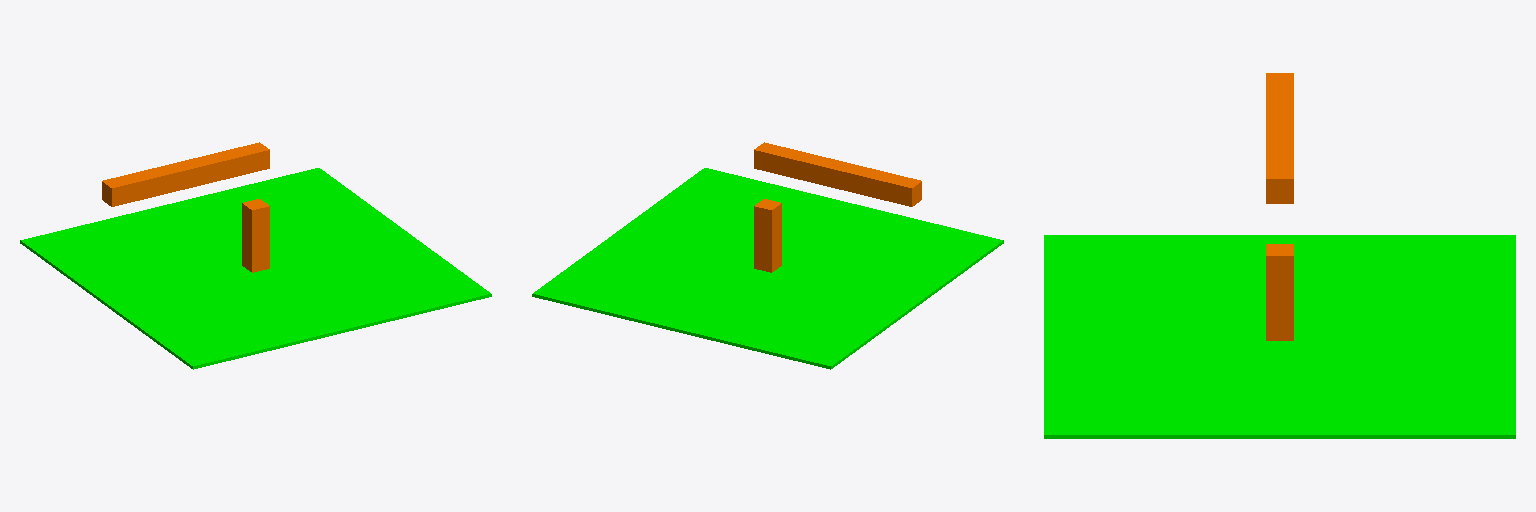
robot.urdf — scene_mingruiyu_0:
<?xml version="1.0" ?>
<!-- =================================================================================== -->
<!-- |    This document was autogenerated by xacro from scene_mingruiyu_3.xacro        | -->
<!-- |    EDITING THIS FILE BY HAND IS NOT RECOMMENDED                                 | -->
<!-- =================================================================================== -->
<robot name="scene_mingruiyu_0">
  <material name="dark_gray">
    <color rgba="0.2 0.2 0.2 1.0"/>
  </material>
  <material name="gray">
    <color rgba="0.3 0.3 0.3 1.0"/>
  </material>
  <material name="light_gray">
    <color rgba="0.4 0.4 0.4 1.0"/>
  </material>
  <material name="yellow">
    <color rgba="0.8 0.8 0.0 1.0"/>
  </material>
  <material name="orange">
    <color rgba="1.0 0.5 0.0 1.0"/>
  </material>
  <material name="green">
    <color rgba="0.0 1.0 0.0 1.0"/>
  </material>
  <material name="teal">
    <color rgba="0.0 1.0 1.0 1.0"/>
  </material>
  <material name="black">
    <color rgba="0.15 0.15 0.15 1.0"/>
  </material>
  <!-- GROUND PLANE -->
  <link name="ground_plane">
    <visual>
      <geometry>
        <box size="1 1 0.01"/>
      </geometry>
      <origin rpy="0 0 0" xyz="0 0 -0.005"/>
      <material name="green"/>
    </visual>
    <collision>
      <geometry>
        <box size="1 1 0.01"/>
      </geometry>
      <origin rpy="0 0 0" xyz="0 0 -0.005"/>
    </collision>
  </link>
  <link name="pole_1_root_link">
    <visual>
      <geometry>
        <box size="0.06 0.06 0.2"/>
      </geometry>
      <origin rpy="0 0 0" xyz="0 0 0.1"/>
      <material name="orange"/>
    </visual>
    <collision>
      <geometry>
        <box size="0.06 0.06 0.2"/>
      </geometry>
      <origin rpy="0 0 0" xyz="0 0 0.1"/>
    </collision>
  </link>
  <joint name="pole_1_fixture_joint" type="fixed">
    <parent link="ground_plane"/>
    <child link="pole_1_root_link"/>
    <origin rpy="0 0 0" xyz="0.0 0.0 0.0"/>
  </joint>
  <link name="pole_2_root_link">
    <visual>
      <geometry>
        <box size="0.06 0.06 0.53"/>
      </geometry>
      <origin rpy="0 0 0" xyz="0 0 0.265"/>
      <material name="orange"/>
    </visual>
    <collision>
      <geometry>
        <box size="0.06 0.06 0.53"/>
      </geometry>
      <origin rpy="0 0 0" xyz="0 0 0.265"/>
    </collision>
  </link>
  <joint name="pole_2_fixture_joint" type="fixed">
    <parent link="ground_plane"/>
    <child link="pole_2_root_link"/>
    <origin rpy="0 -1.5707963267948966 0" xyz="0.03 0.0 0.35"/>
  </joint>
</robot>

--- Render facts (derived) ---
3 views of the same robot in one strip: view 1: azimuth 30°, elevation 25°; view 2: azimuth 150°, elevation 25°; view 3: azimuth 270°, elevation 25° (orthographic).
Robot: scene_mingruiyu_0 — 3 links, 2 joints (2 fixed); root link ground_plane; default pose: every joint at zero.
Visible links, largest first — view 1: ground_plane, pole_2_root_link, pole_1_root_link; view 2: ground_plane, pole_2_root_link, pole_1_root_link; view 3: ground_plane, pole_2_root_link, pole_1_root_link.
Boxes of the visible links, left/top/right/bottom form: ground_plane: left=20, top=168, right=491, bottom=369; pole_2_root_link: left=102, top=142, right=269, bottom=206; pole_1_root_link: left=242, top=199, right=269, bottom=272; ground_plane: left=532, top=168, right=1003, bottom=369; pole_2_root_link: left=754, top=142, right=921, bottom=206; pole_1_root_link: left=754, top=199, right=781, bottom=272; ground_plane: left=1044, top=235, right=1515, bottom=438; pole_2_root_link: left=1266, top=73, right=1293, bottom=203; pole_1_root_link: left=1266, top=244, right=1293, bottom=340.
Bounding box of the posed robot: 1 × 1 × 0.39 m (x, y, z).
Geometry: primitives only (box / cylinder / sphere), no mesh files.
